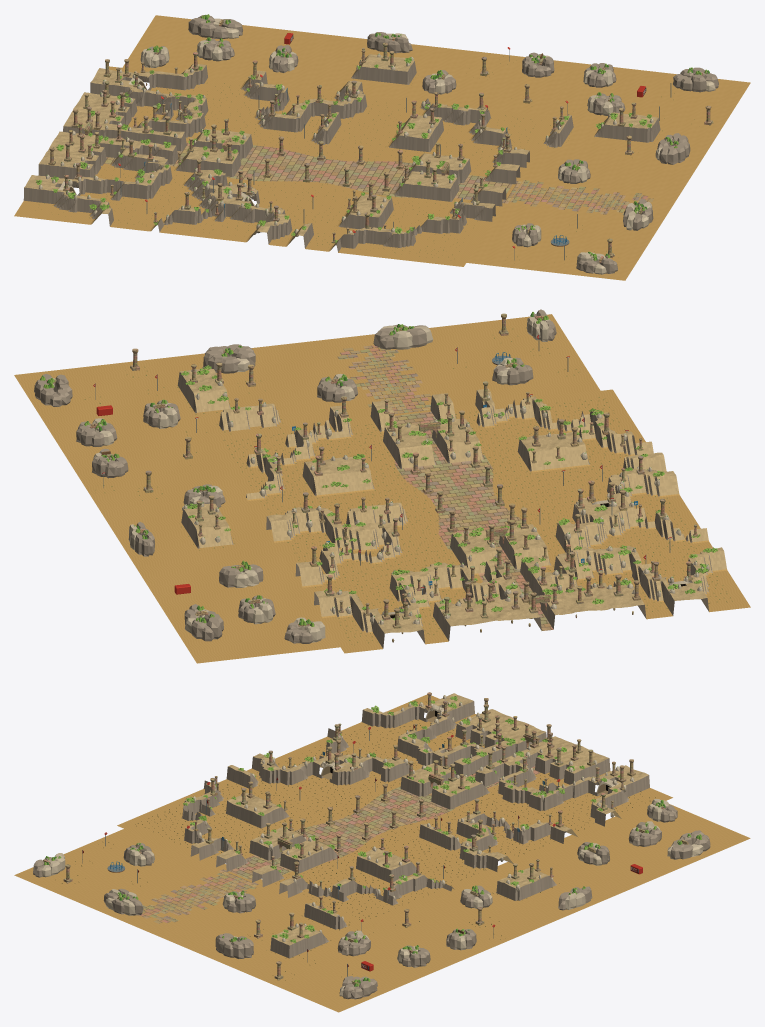
Rendered from terrain-props.glb.
3 views of the same model, one above another, from view 1: azimuth 30°, elevation 25°; view 2: azimuth 150°, elevation 25°; view 3: azimuth 270°, elevation 25° (orthographic). The views are drawn at different scales.
Visible parts, largest first — view 1: HM18-chunk-2-5-ground-support, HM18-chunk-4-2-ground-support, HM18-chunk-4-4-ground-support, HM18-chunk-5-1-ground-support, HM18-chunk-0-0-ground-support, HM18-chunk-0-3-ground-support, HM18-chunk-0-1-ground-support, HM18-chunk-1-0-ground-support, HM18-chunk-3-3-ground-support, HM18-chunk-3-2-ground-support, HM18-chunk-0-2-ground-support, HM18-chunk-3-1-ground-support (+44 smaller); view 2: HM18-chunk-2-5-ground-support, HM18-chunk-4-2-ground-support, HM18-chunk-4-4-ground-support, HM18-chunk-5-1-ground-support, HM18-chunk-0-0-ground-support, HM18-chunk-0-1-ground-support, HM18-chunk-2-3-ground-support, HM18-chunk-0-3-ground-support, HM18-chunk-3-1-ground-support, HM18-chunk-0-2-ground-support, HM18-chunk-1-3-ground-support, HM18-chunk-3-0-ground-support (+47 smaller); view 3: HM18-chunk-2-5-ground-support, HM18-chunk-4-2-ground-support, HM18-chunk-4-4-ground-support, HM18-chunk-5-1-ground-support, HM18-chunk-0-2-ground-support, HM18-chunk-0-0-ground-support, HM18-chunk-2-1-ground-support, HM18-chunk-2-0-ground-support, HM18-chunk-3-0-ground-support, HM18-chunk-1-1-ground-support, HM18-chunk-0-3-ground-support, HM18-chunk-1-2-ground-support (+43 smaller).
Boxes of the visible parts, box(x1,y1,x2,y2) form: HM18-chunk-2-5-ground-support: box(466, 83, 750, 280); HM18-chunk-4-2-ground-support: box(163, 33, 616, 115); HM18-chunk-4-4-ground-support: box(476, 63, 750, 247); HM18-chunk-5-1-ground-support: box(122, 15, 576, 71); HM18-chunk-0-0-ground-support: box(14, 175, 149, 228); HM18-chunk-0-3-ground-support: box(325, 202, 444, 262); HM18-chunk-0-1-ground-support: box(126, 179, 246, 239); HM18-chunk-1-0-ground-support: box(38, 133, 170, 181); HM18-chunk-3-3-ground-support: box(390, 105, 510, 158); HM18-chunk-3-2-ground-support: box(291, 96, 410, 147); HM18-chunk-0-2-ground-support: box(226, 190, 347, 251); HM18-chunk-3-1-ground-support: box(192, 85, 304, 136); HM18-chunk-2-5-ground-support: box(16, 314, 600, 395); HM18-chunk-4-2-ground-support: box(67, 418, 330, 631); HM18-chunk-4-4-ground-support: box(14, 375, 556, 458); HM18-chunk-5-1-ground-support: box(67, 458, 339, 663); HM18-chunk-0-0-ground-support: box(615, 547, 750, 618); HM18-chunk-0-1-ground-support: box(584, 497, 712, 561); HM18-chunk-2-3-ground-support: box(344, 424, 463, 488); HM18-chunk-0-3-ground-support: box(523, 403, 653, 465); HM18-chunk-3-1-ground-support: box(317, 523, 434, 593); HM18-chunk-0-2-ground-support: box(554, 452, 685, 509); HM18-chunk-1-3-ground-support: box(440, 416, 553, 478); HM18-chunk-3-0-ground-support: box(355, 570, 469, 649); HM18-chunk-2-5-ground-support: box(14, 829, 337, 1011); HM18-chunk-4-2-ground-support: box(371, 811, 661, 967); HM18-chunk-4-4-ground-support: box(149, 839, 457, 1012); HM18-chunk-5-1-ground-support: box(458, 804, 750, 961); HM18-chunk-0-2-ground-support: box(219, 753, 342, 807); HM18-chunk-0-0-ground-support: box(350, 693, 476, 745); HM18-chunk-2-1-ground-support: box(397, 763, 517, 827); HM18-chunk-2-0-ground-support: box(466, 731, 597, 789); HM18-chunk-3-0-ground-support: box(521, 754, 651, 821); HM18-chunk-1-1-ground-support: box(343, 741, 465, 804); HM18-chunk-0-3-ground-support: box(145, 780, 265, 839); HM18-chunk-1-2-ground-support: box(282, 770, 396, 833).
Bounding box in the file's own units: 148 × 6.4 × 144.
Materials: 3 (2 with a texture image).
